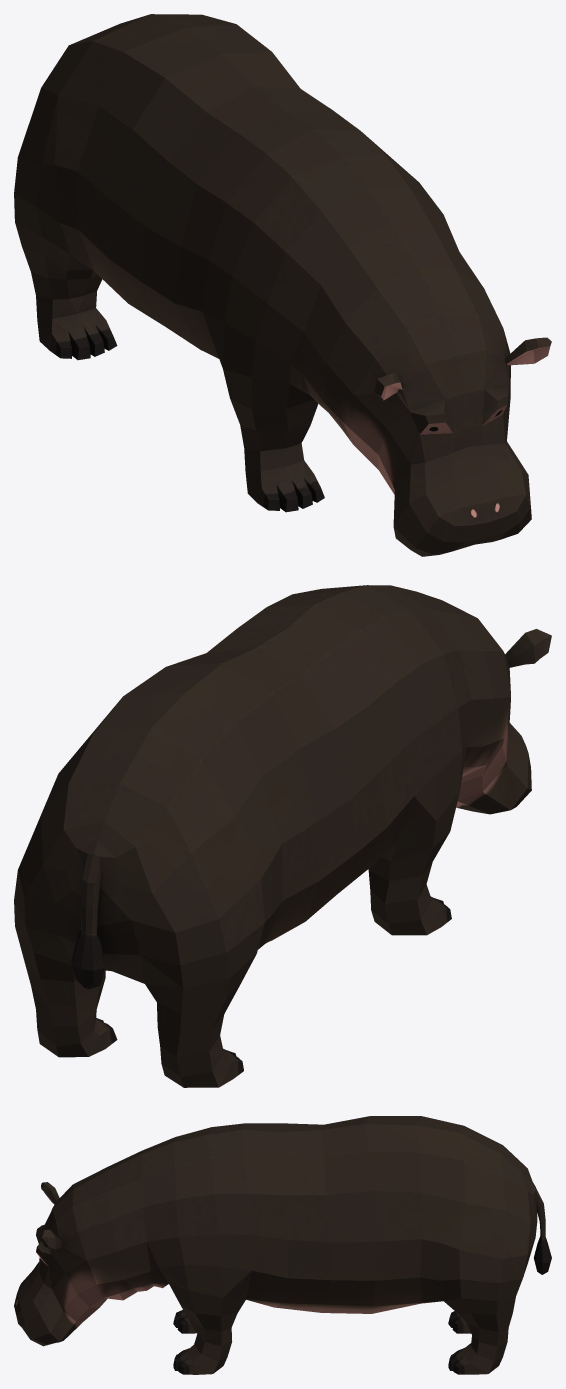
Rendered from hippo.glb.
The picture shows the model from 3 angles, top to bottom: view 1: azimuth 30°, elevation 25°; view 2: azimuth 150°, elevation 25°; view 3: azimuth 270°, elevation 25°; orthographic projection. The views are drawn at different scales.
Parts seen in each view (by area): view 1: Hippopotamus_Mesh; view 2: Hippopotamus_Mesh; view 3: Hippopotamus_Mesh.
Boxes of the visible parts, x1,y1,x2,y2 form: Hippopotamus_Mesh: (14,14,551,556); Hippopotamus_Mesh: (14,585,551,1087); Hippopotamus_Mesh: (14,1116,551,1374).
Size of the model in its own units: 1.07 by 1.5 by 3.3.
1 material, 1 textured.
